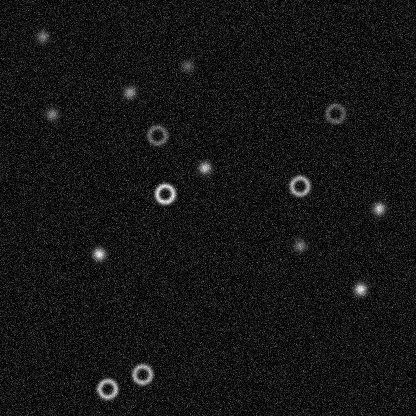Ring: (145, 123, 169, 147), (95, 376, 119, 400), (323, 101, 347, 125), (152, 181, 176, 205), (130, 362, 154, 386), (287, 173, 311, 197)
Spot: (196, 159, 212, 175), (34, 28, 50, 44), (90, 245, 106, 261), (43, 106, 59, 122), (370, 200, 386, 216), (352, 280, 368, 296), (179, 57, 195, 73), (291, 237, 307, 253), (121, 84, 137, 100)
